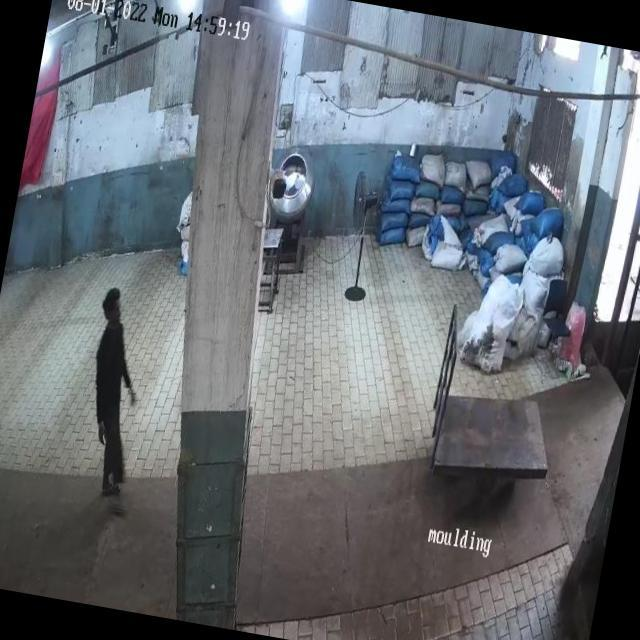person: (69, 286, 158, 506)
